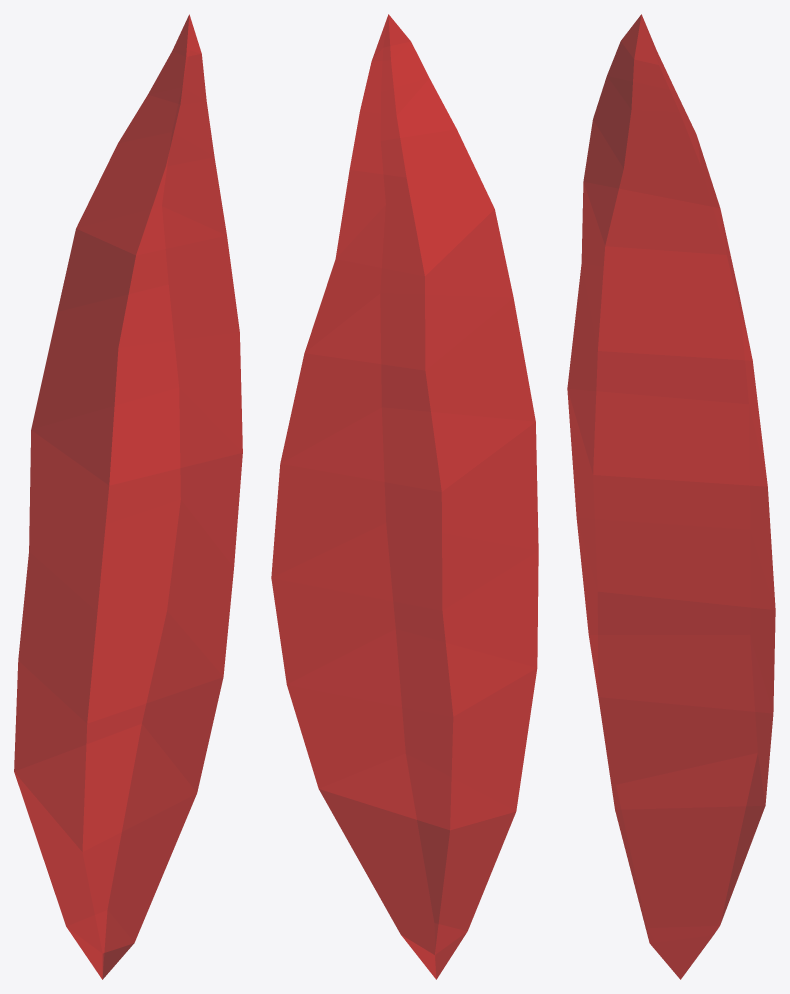
The model's file is crystal.glb.
The picture shows the model from 3 angles, left to right: view 1: azimuth 30°, elevation 25°; view 2: azimuth 150°, elevation 25°; view 3: azimuth 270°, elevation 25°; orthographic projection. The views are drawn at different scales.
Visible parts, largest first — view 1: Cube; view 2: Cube; view 3: Cube.
Boxes of the visible parts, x1,y1,x2,y2 form: Cube: (14, 14, 242, 979); Cube: (271, 14, 538, 979); Cube: (567, 14, 775, 979).
Bounding box in the file's own units: 2.06 × 10.32 × 1.95.
